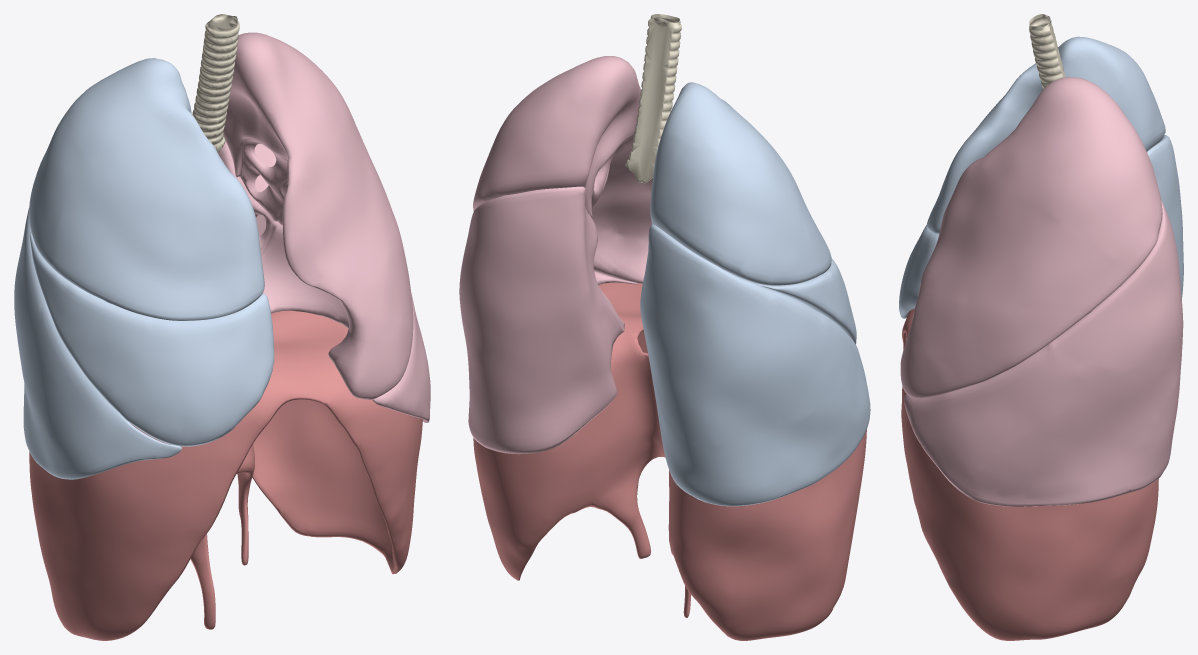
The model's file is lungs.glb.
The picture shows the model from 3 angles, left to right: view 1: azimuth 30°, elevation 25°; view 2: azimuth 150°, elevation 25°; view 3: azimuth 270°, elevation 25°; orthographic projection. The views are drawn at different scales.
Visible parts, largest first — view 1: Diaphragm.001, Superior lobe of right lung.001, Superior lobe of left lung.001, Middle lobe of right lung.001, Inferior lobe of right lung.001, Inferior lobe of left lung.001, Trachea.001; view 2: Diaphragm.001, Inferior lobe of right lung.001, Inferior lobe of left lung.001, Superior lobe of right lung.001, Superior lobe of left lung.001, Trachea.001, Middle lobe of right lung.001; view 3: Superior lobe of left lung.001, Inferior lobe of left lung.001, Diaphragm.001, Superior lobe of right lung.001, Inferior lobe of right lung.001, Trachea.001, Middle lobe of right lung.001.
Boxes of the visible parts, box(x1,y1,x2,y2) form: Diaphragm.001: box(29, 310, 422, 640); Superior lobe of right lung.001: box(29, 58, 264, 320); Superior lobe of left lung.001: box(223, 32, 413, 399); Middle lobe of right lung.001: box(29, 232, 274, 446); Inferior lobe of right lung.001: box(14, 208, 181, 479); Inferior lobe of left lung.001: box(218, 141, 430, 422); Trachea.001: box(192, 14, 239, 152); Diaphragm.001: box(473, 282, 866, 640); Inferior lobe of right lung.001: box(640, 224, 870, 506); Inferior lobe of left lung.001: box(459, 186, 637, 454); Superior lobe of right lung.001: box(650, 82, 831, 285); Superior lobe of left lung.001: box(473, 56, 652, 283); Trachea.001: box(625, 14, 681, 183); Middle lobe of right lung.001: box(753, 258, 856, 344); Superior lobe of left lung.001: box(900, 77, 1162, 398); Inferior lobe of left lung.001: box(904, 200, 1183, 506); Diaphragm.001: box(901, 308, 1158, 640); Superior lobe of right lung.001: box(927, 36, 1165, 233); Inferior lobe of right lung.001: box(1147, 135, 1183, 299); Trachea.001: box(1029, 14, 1065, 88); Middle lobe of right lung.001: box(899, 225, 938, 318).
Size of the model in its own units: 1.62 by 2.6 by 1.15.
